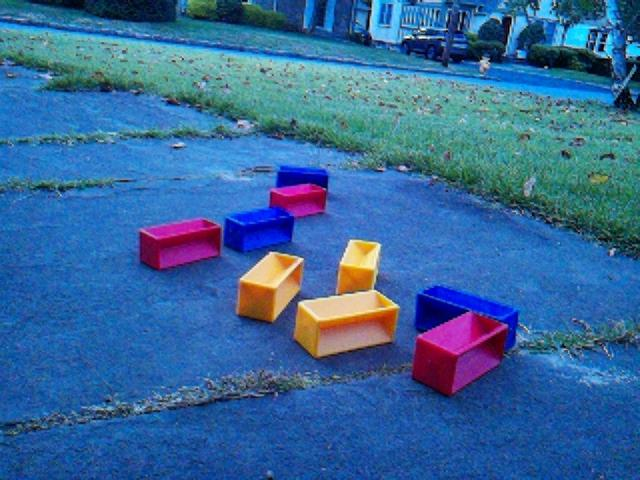blue: (415, 284, 521, 354), (224, 206, 295, 255), (276, 166, 331, 196)
red: (412, 311, 510, 398), (139, 218, 223, 272), (270, 184, 328, 219)
yellow: (294, 290, 402, 360), (236, 252, 306, 324), (336, 238, 383, 296)
